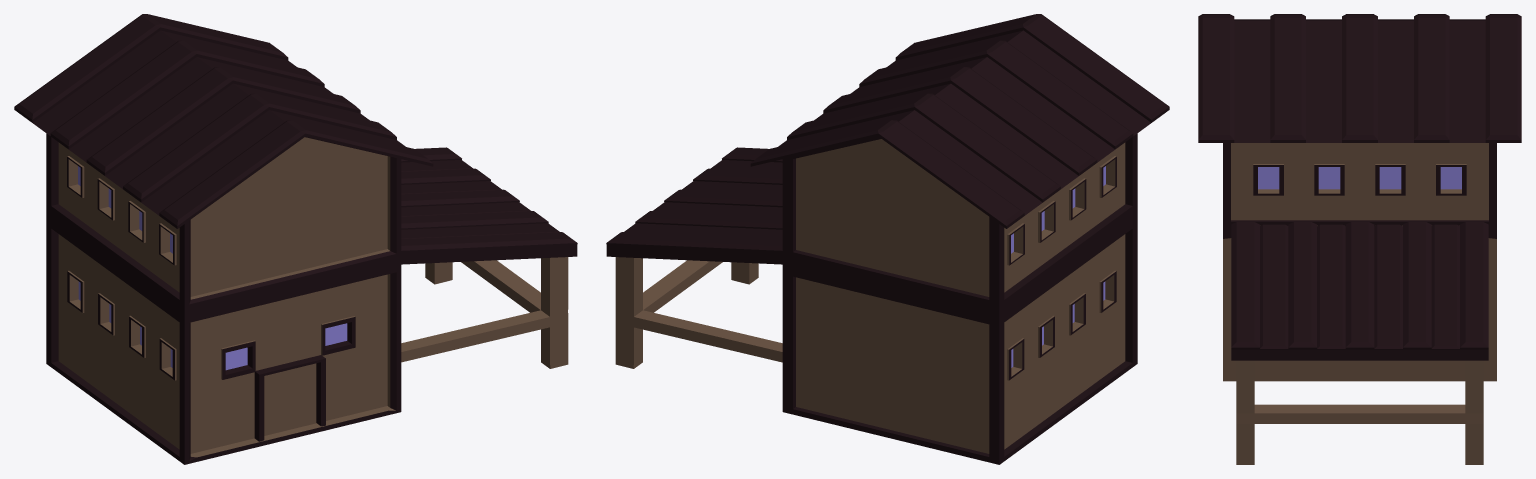
File: barracks.fbx
3 views of the same model, side by side, from view 1: azimuth 30°, elevation 25°; view 2: azimuth 150°, elevation 25°; view 3: azimuth 270°, elevation 25° (orthographic).
Parts seen in each view (by area): view 1: shooting range; view 2: shooting range; view 3: shooting range.
Boxes of the visible parts, x1=… form: shooting range: x1=14, y1=14, x2=577, y2=464; shooting range: x1=606, y1=14, x2=1169, y2=464; shooting range: x1=1198, y1=14, x2=1521, y2=464.
Size of the model in its own units: 1370 by 990 by 928.
